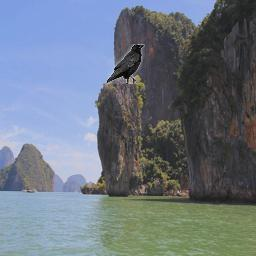Crow: (107, 44, 145, 84)
